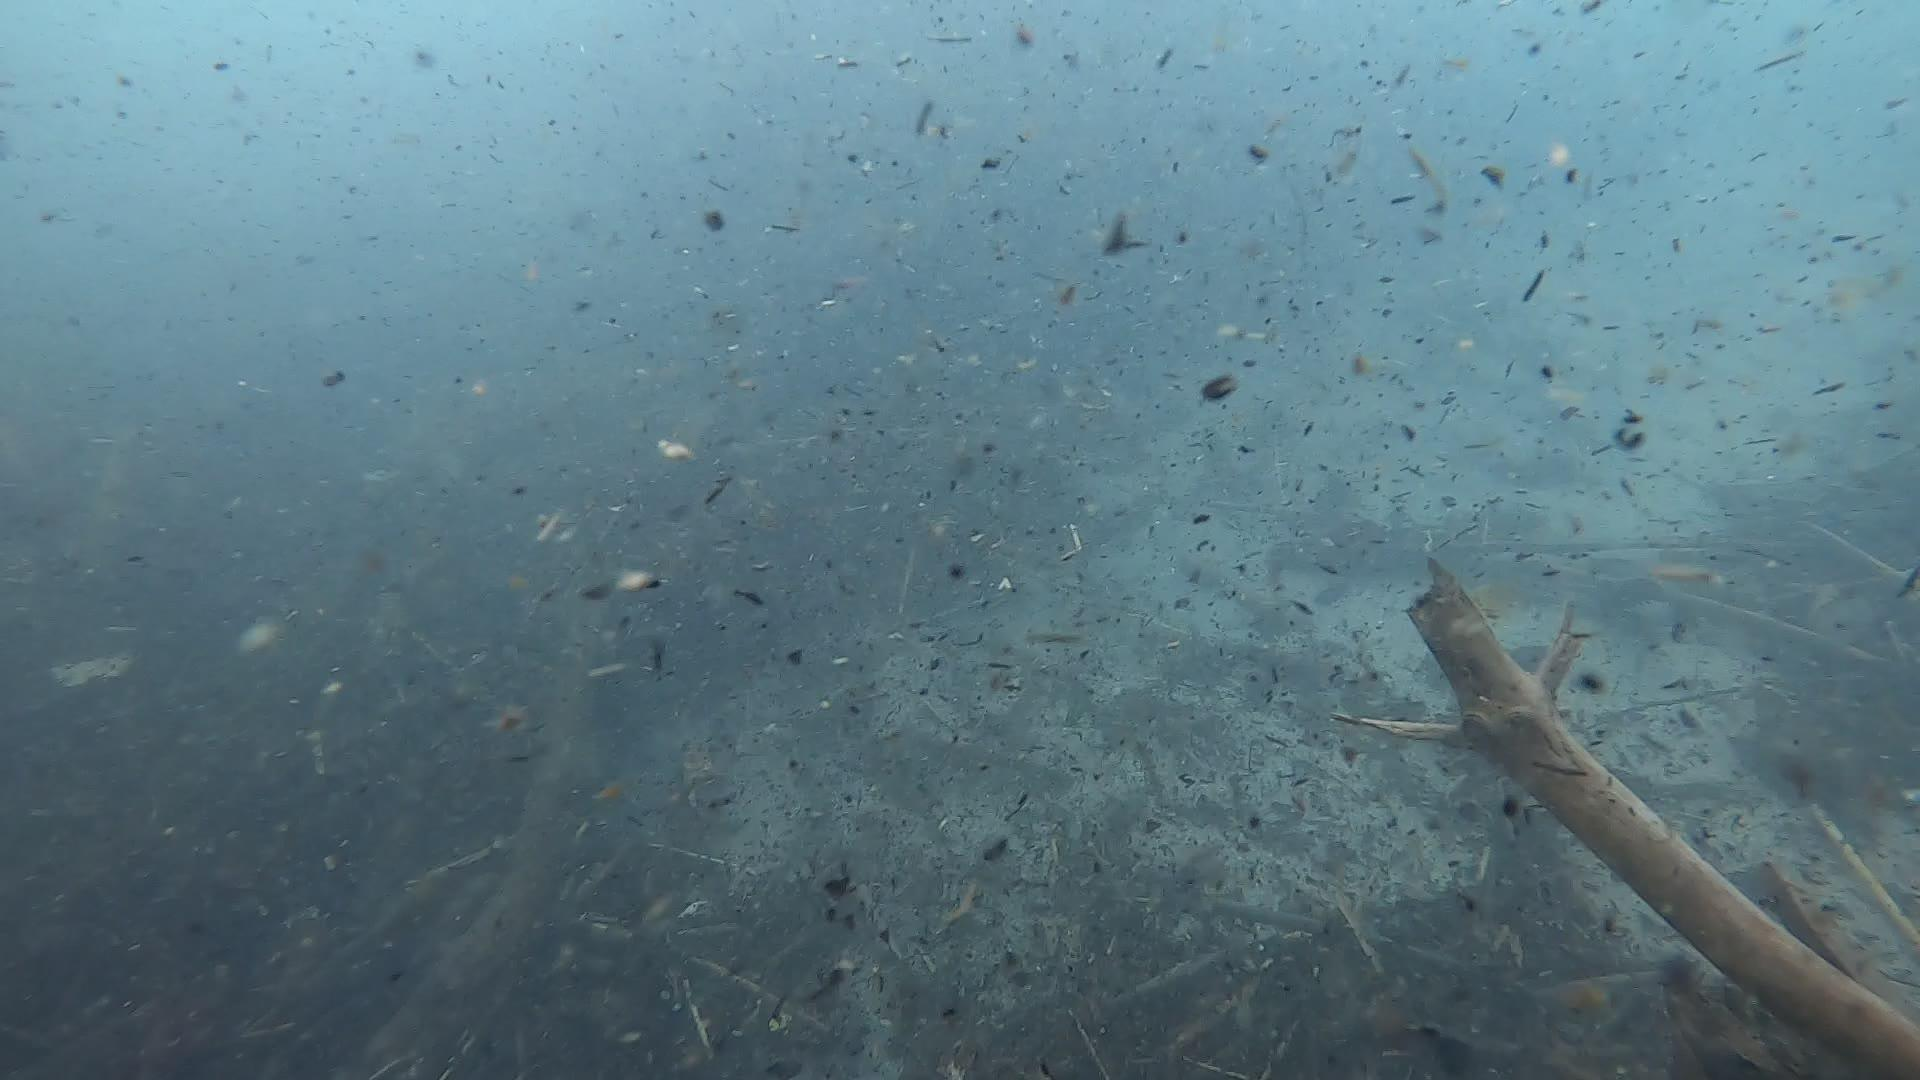wood: (1325, 553, 1920, 1080)
